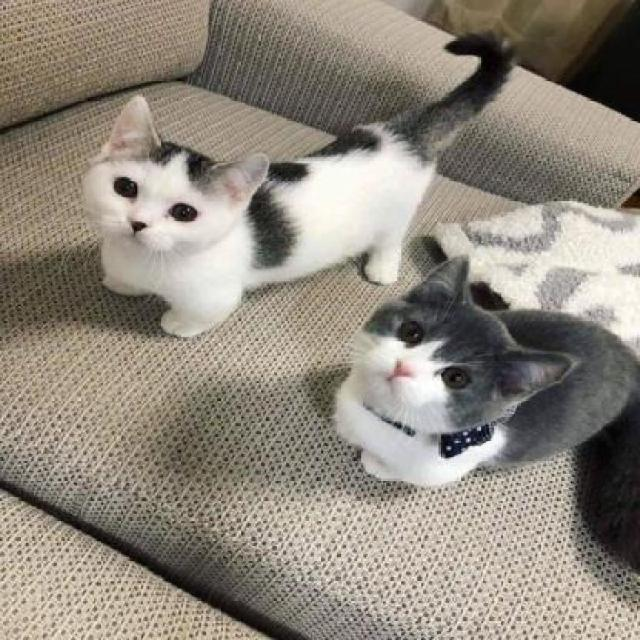cat: (58, 95, 479, 332), (348, 258, 634, 512)
